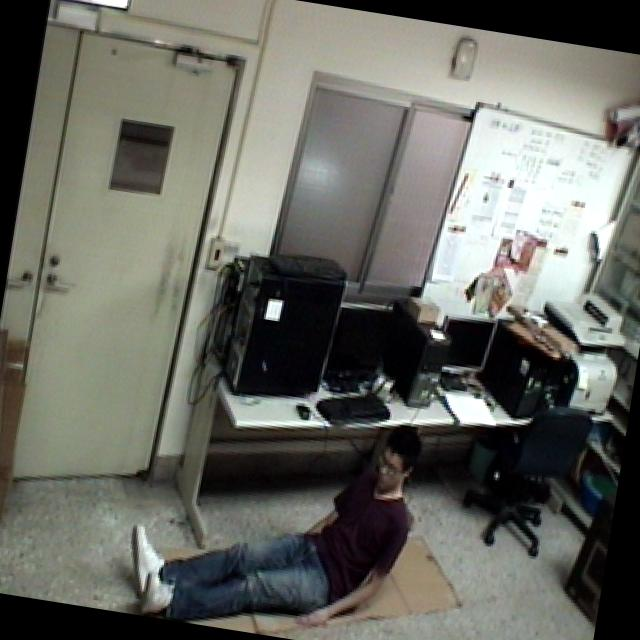sit: (115, 375, 450, 640)
